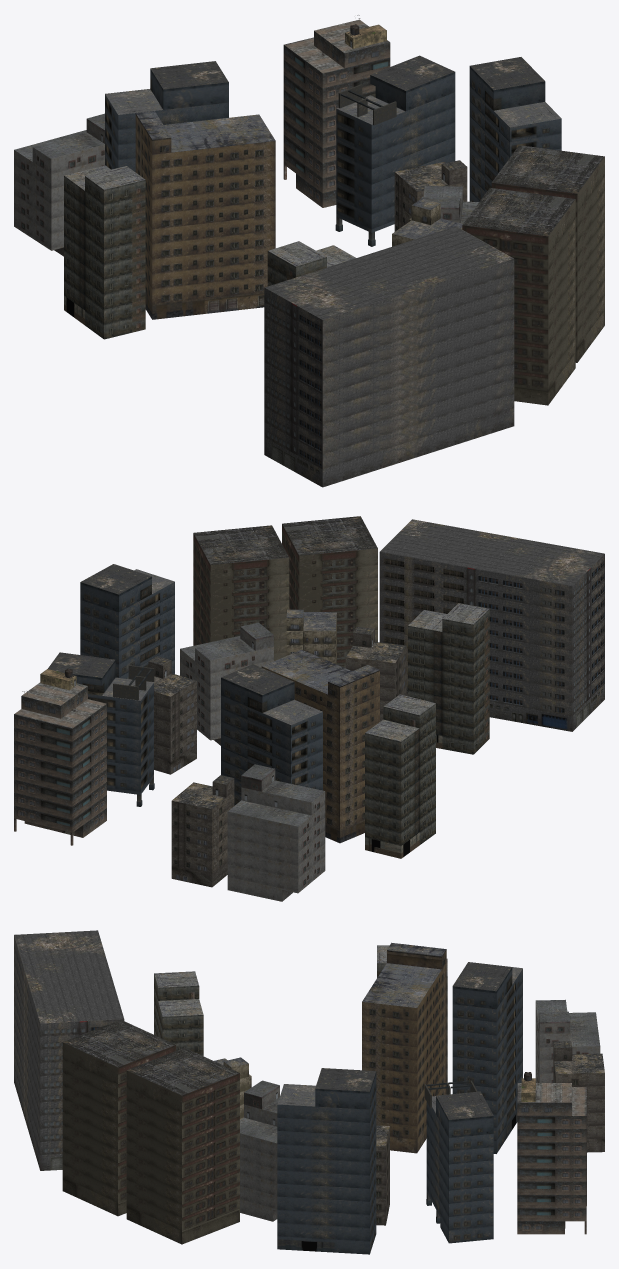
File: BuildingSet_07.FBX
3 views of the same model, one above another, from view 1: azimuth 30°, elevation 25°; view 2: azimuth 150°, elevation 25°; view 3: azimuth 270°, elevation 25° (orthographic). The views are drawn at different scales.
Visible parts, largest first — view 1: BuildingSet_07; view 2: BuildingSet_07; view 3: BuildingSet_07.
Boxes of the visible parts, bbox=[...] form: BuildingSet_07: bbox=[14, 15, 604, 487]; BuildingSet_07: bbox=[14, 516, 604, 901]; BuildingSet_07: bbox=[14, 930, 604, 1254].
Bounding box in the file's own units: 14771 × 6323 × 20793.
1 material, 1 textured.
